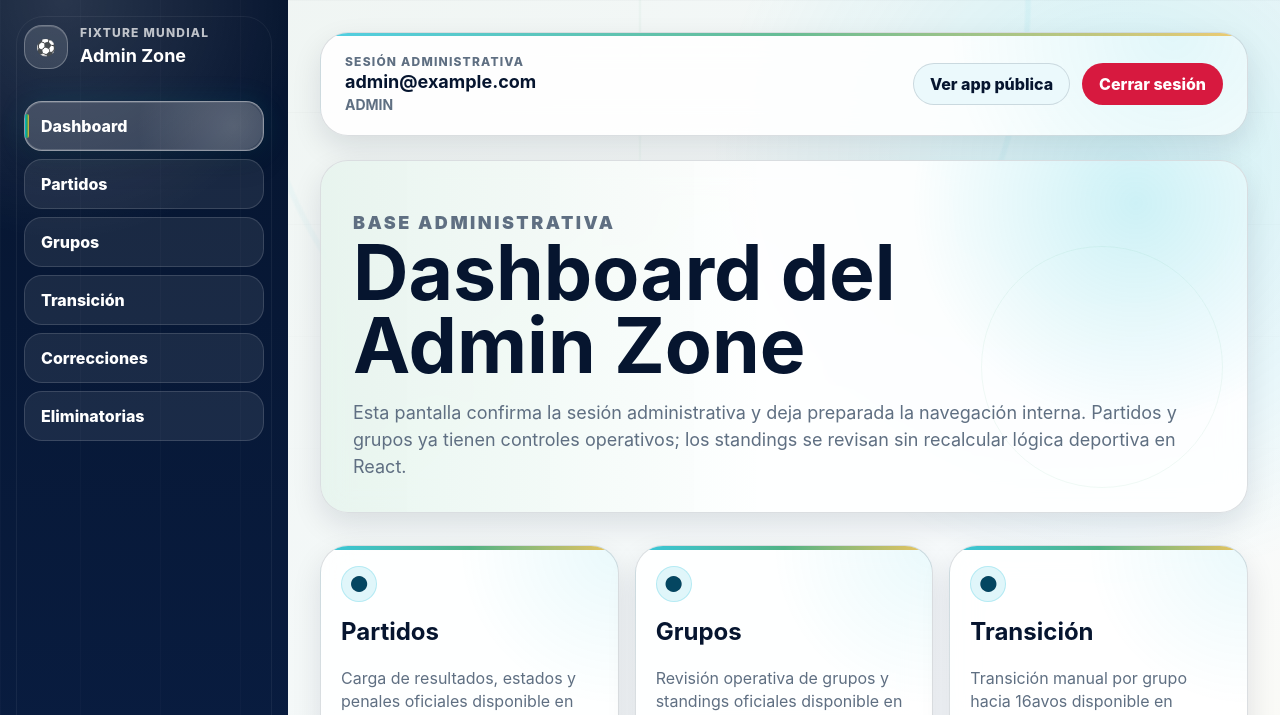
Admin routes › clears the admin session after logout
Check: the heading "Dashboard del Admin Zone" is shown, box x1=353 y1=226 x2=896 y2=392
Step 1. Click the button "Cerrar sesión" → (1153, 84), box x1=1082 y1=63 x2=1223 y2=105
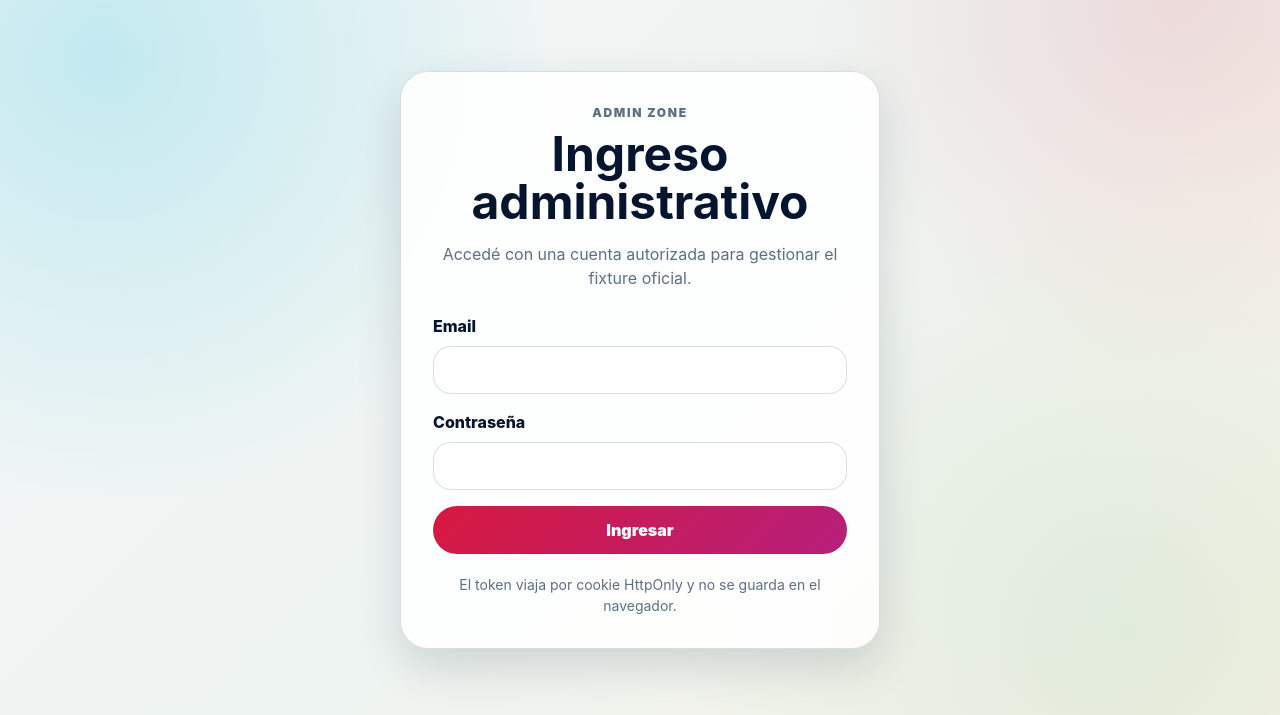
Check: the heading "Ingreso administrativo" is shown, box x1=472 y1=124 x2=808 y2=231
